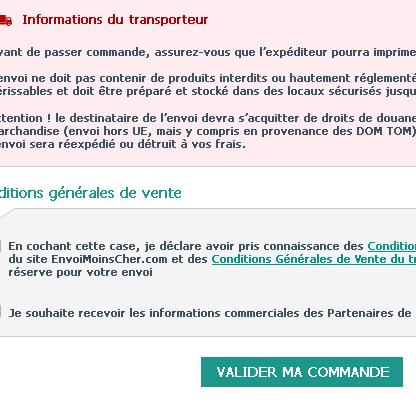button: (199, 355, 406, 391)
